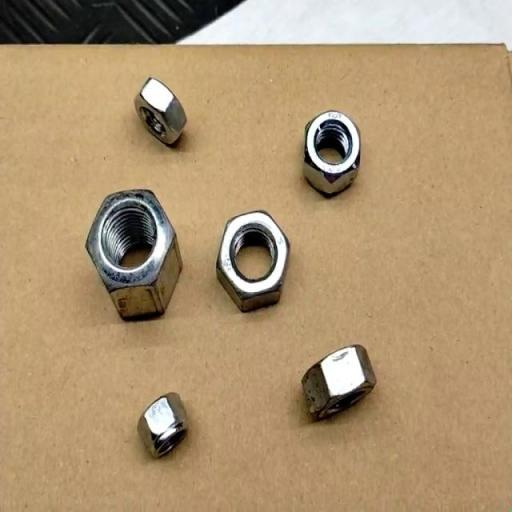Nut: (85, 188, 183, 321), (216, 209, 291, 313), (300, 344, 376, 421), (301, 109, 362, 198), (134, 77, 187, 148), (137, 392, 190, 458)
